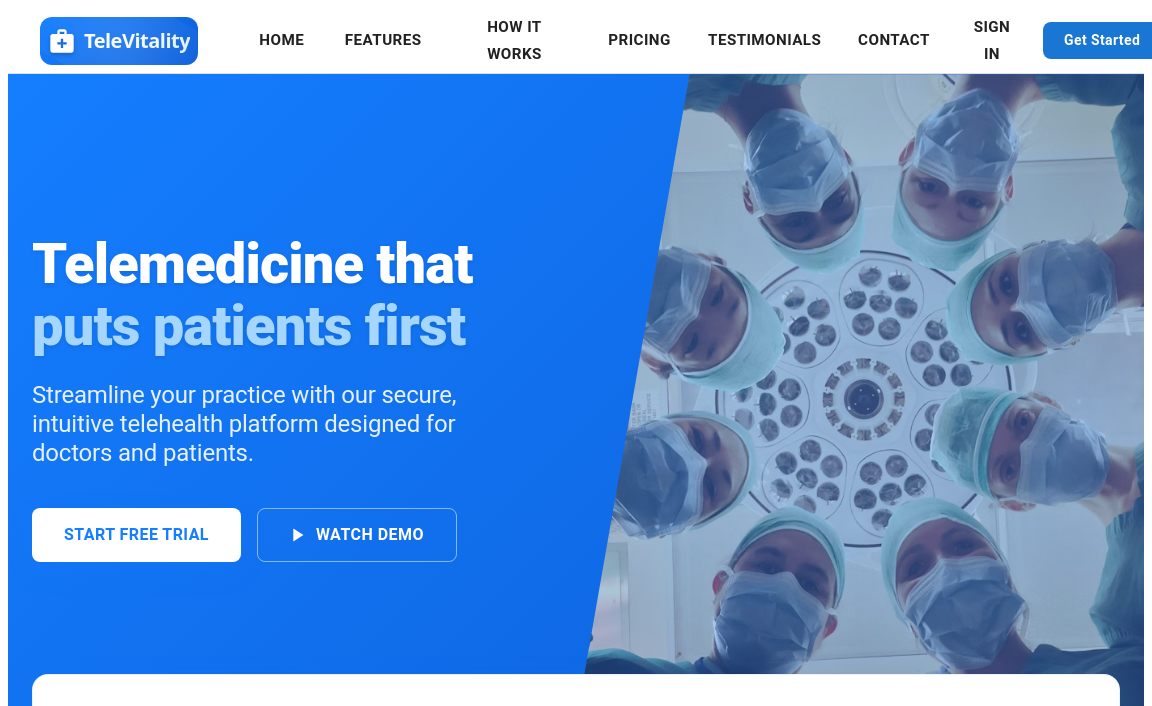
Test case: Patient Login Tests › should show error for invalid credentials
Click the button "Sign In": click(993, 41) [958,8,1027,73]
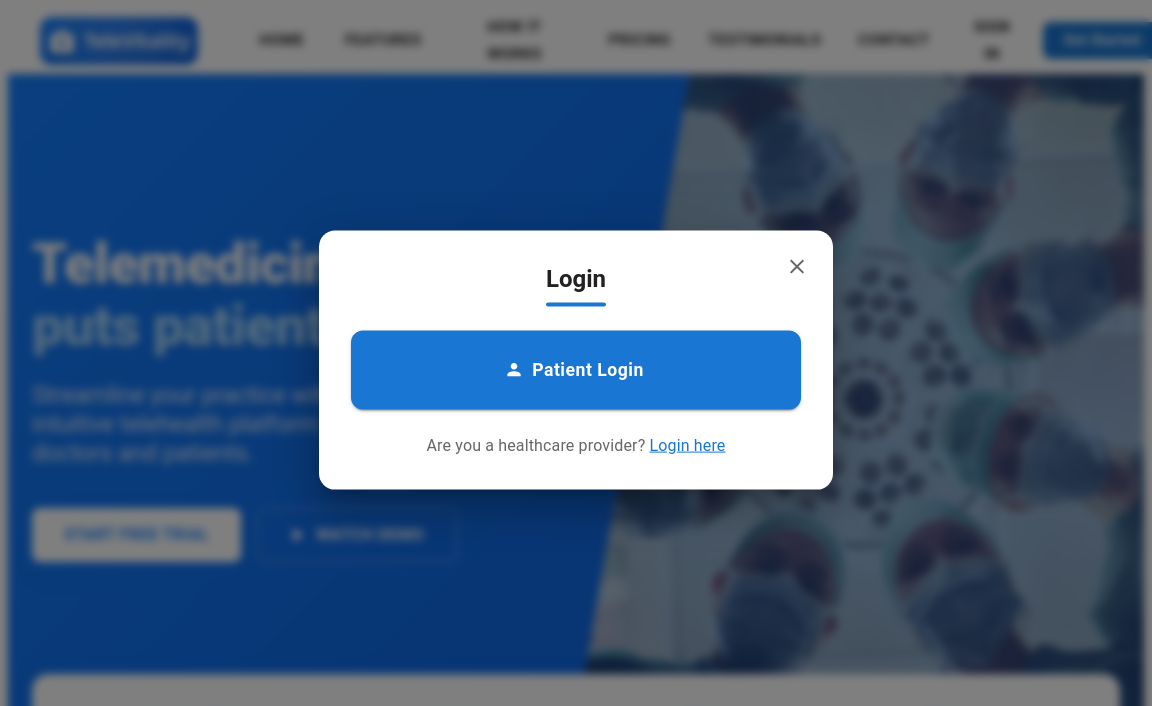
Result: the text "Are you a healthcare provider?" is shown at [427,435,650,454]
Click the button "Patient Login": click(576, 371) [351,331,801,410]
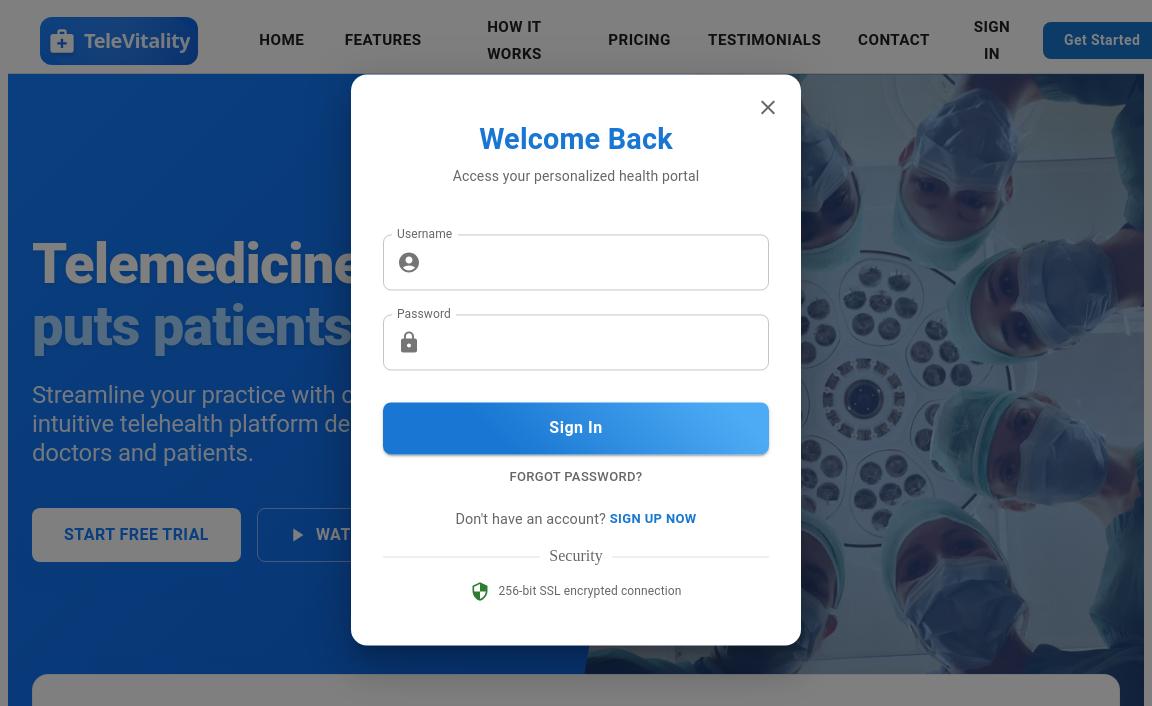
In the field named "username": (599, 262) [429,234,769,290], type "invaliduser"
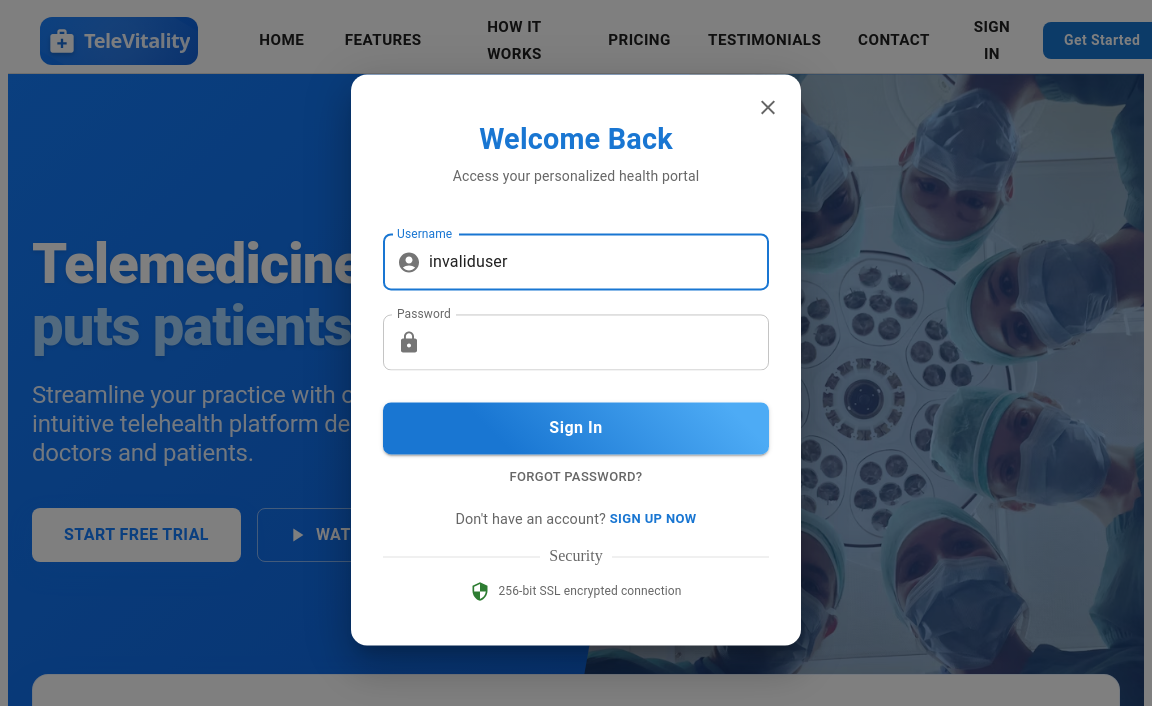
In the password field named "password": (599, 342) [429,314,769,370], type "wrongpass"
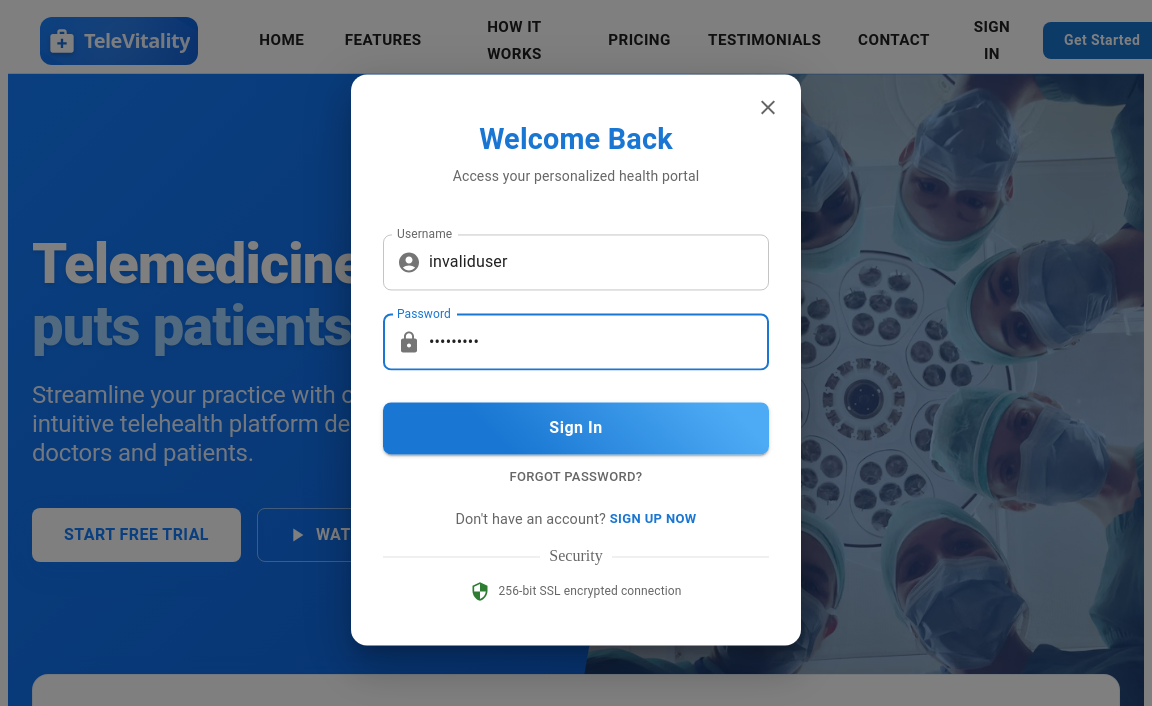
Click the submit button: click(576, 428) [383,402,769,454]
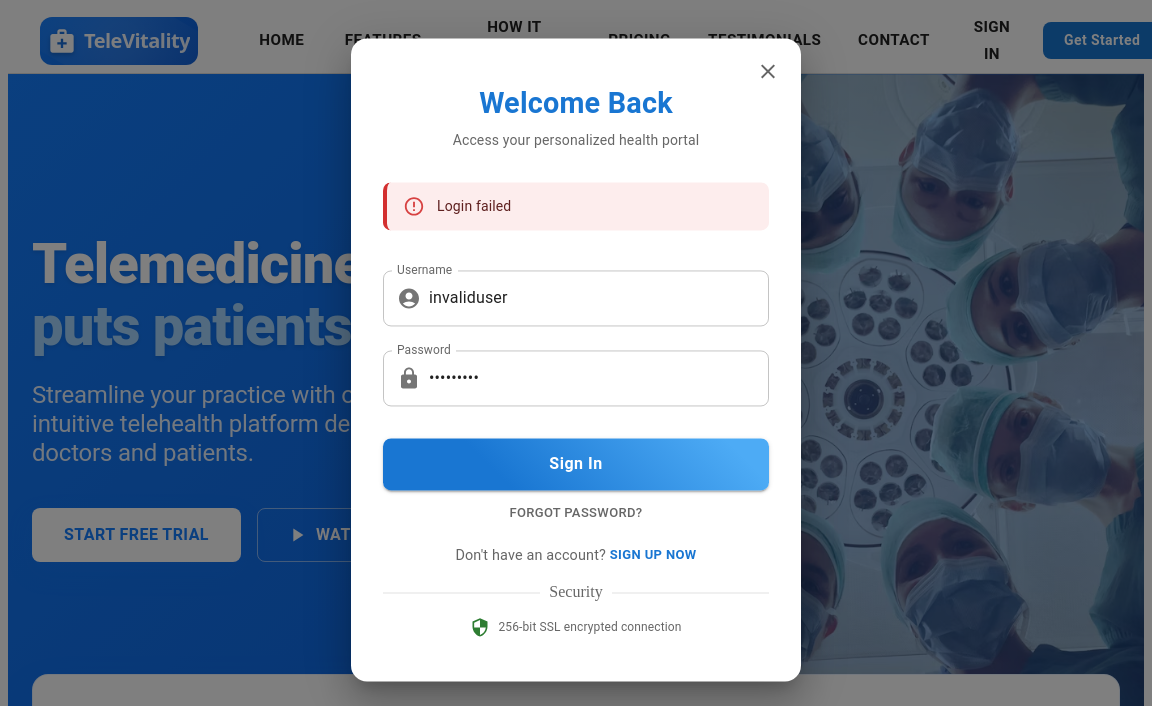
Result: the text "Login failed" is shown at [437,198,511,214]
